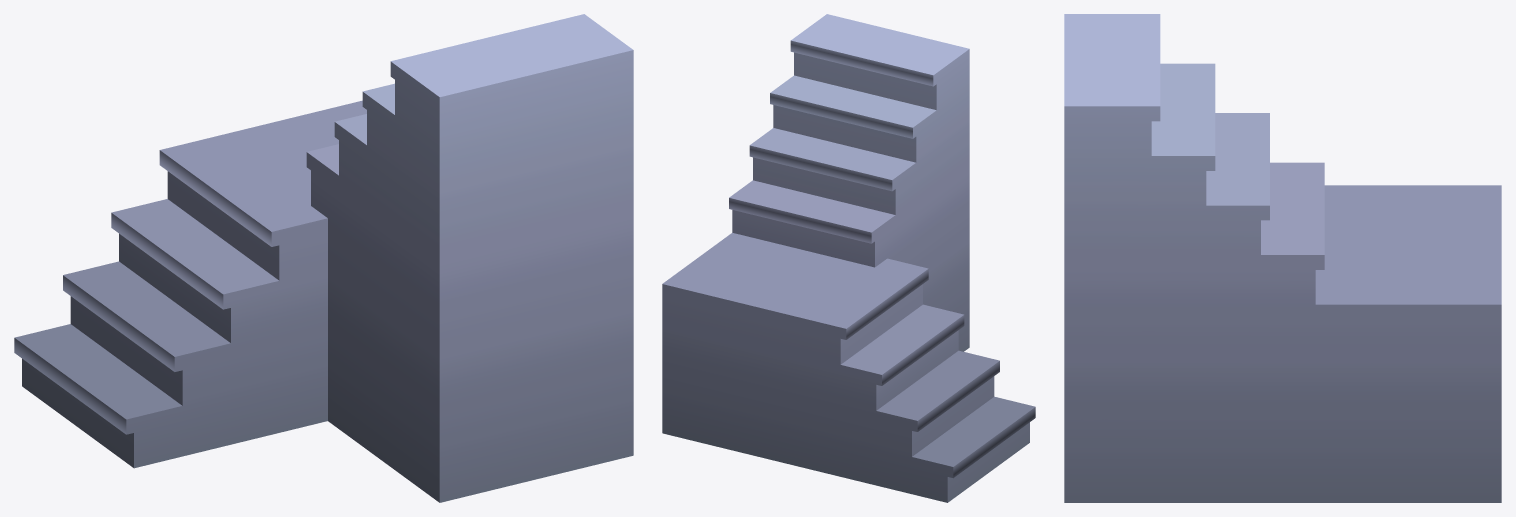
Rendered from stairs-stone-corner.glb.
3 renders of one model, left to right at view 1: azimuth 30°, elevation 25°; view 2: azimuth 150°, elevation 25°; view 3: azimuth 270°, elevation 25°, orthographic. The views are drawn at different scales.
Parts seen in each view (by area): view 1: stairs-stone-corner; view 2: stairs-stone-corner; view 3: stairs-stone-corner.
Boxes of the visible parts, <box> form: stairs-stone-corner: <box>14,14,633,502</box>; stairs-stone-corner: <box>662,14,1035,502</box>; stairs-stone-corner: <box>1064,14,1501,502</box>.
Bounding box in the file's own units: 1.02 × 1 × 1.
1 material, 1 textured.
